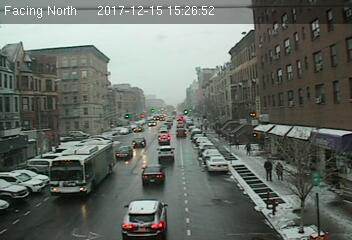bus: (50, 140, 113, 195)
car: (120, 199, 170, 239), (141, 165, 166, 185), (206, 156, 228, 172), (156, 146, 176, 161), (116, 146, 133, 161), (131, 137, 146, 148), (158, 135, 171, 145), (175, 129, 187, 138)
pedestrian: (274, 159, 285, 184), (264, 158, 273, 183), (243, 140, 253, 157)
